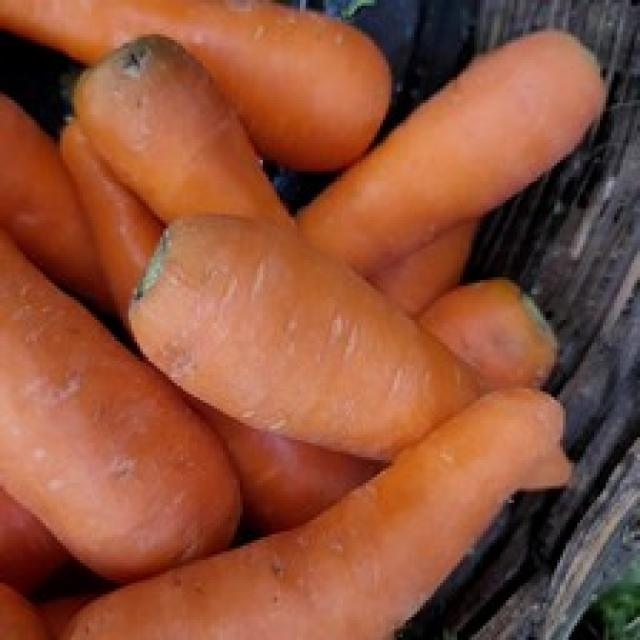Fresh_Carrot: (65, 393, 578, 640), (128, 223, 566, 498), (0, 217, 245, 590), (309, 36, 608, 287), (75, 39, 297, 225)
